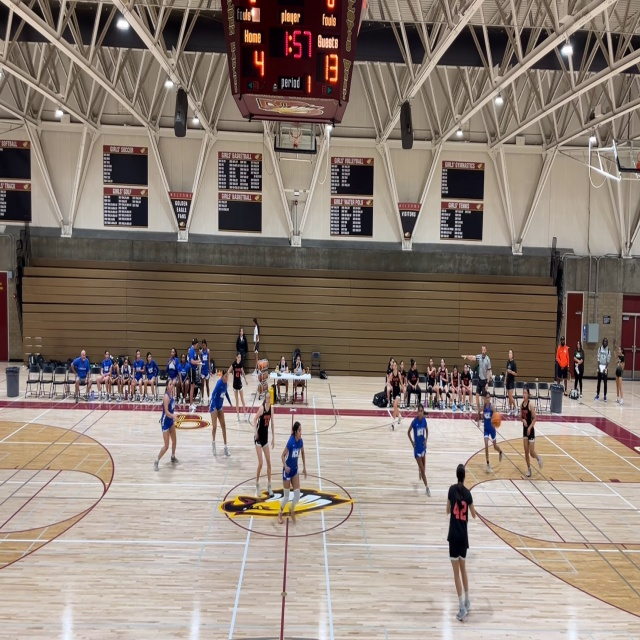Basketball: (491, 412, 502, 428)
